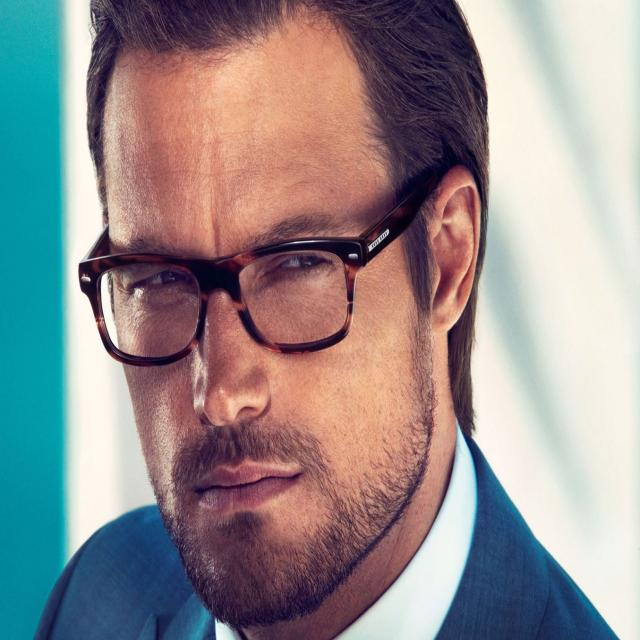glasses: (80, 234, 407, 368)
